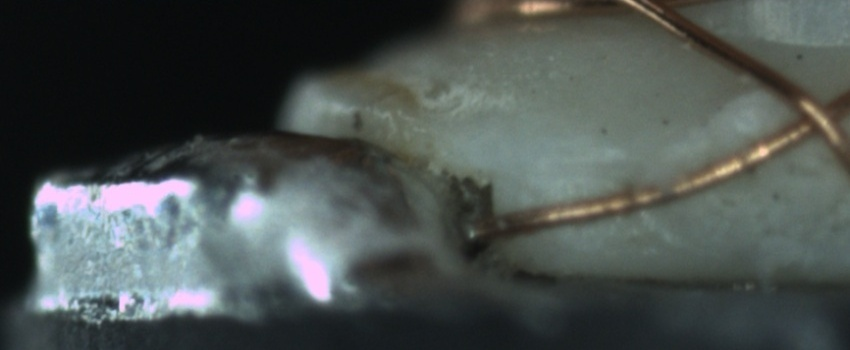CL: (762, 69, 848, 155)
DL: (533, 141, 654, 191)
